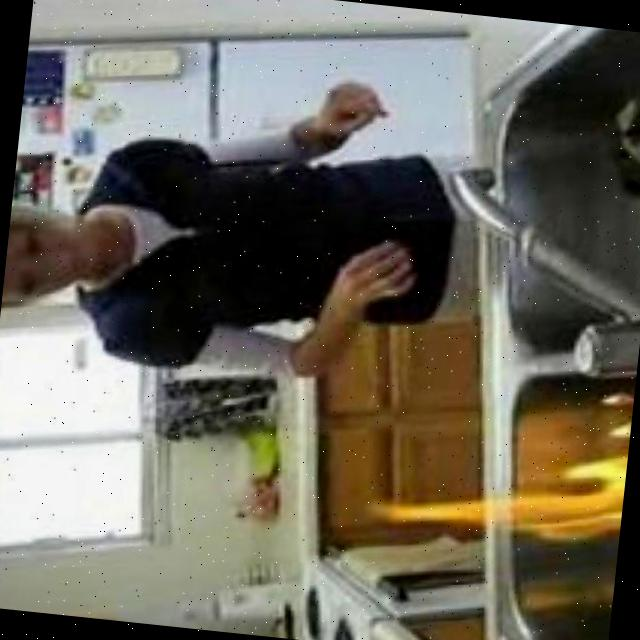fire: (361, 411, 630, 586), (586, 389, 634, 458)
